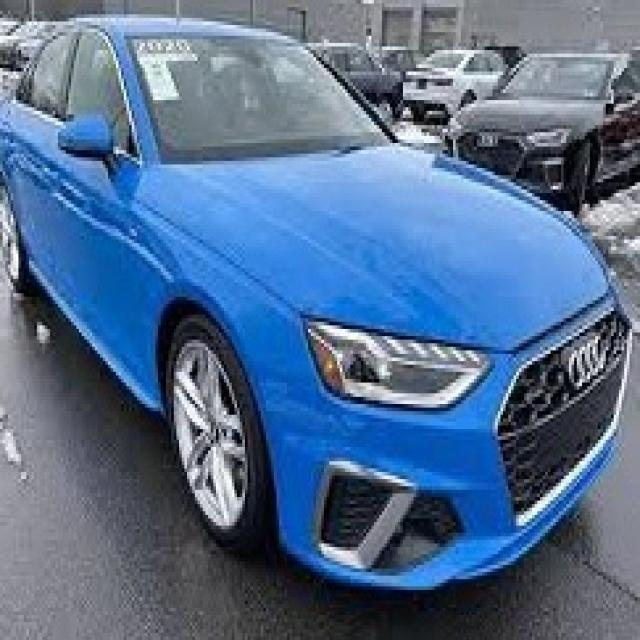blue: (7, 16, 640, 582)
